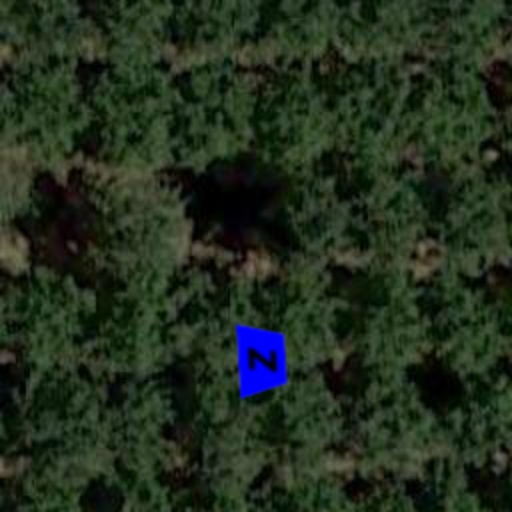trapezoid: (222, 320, 302, 400)
